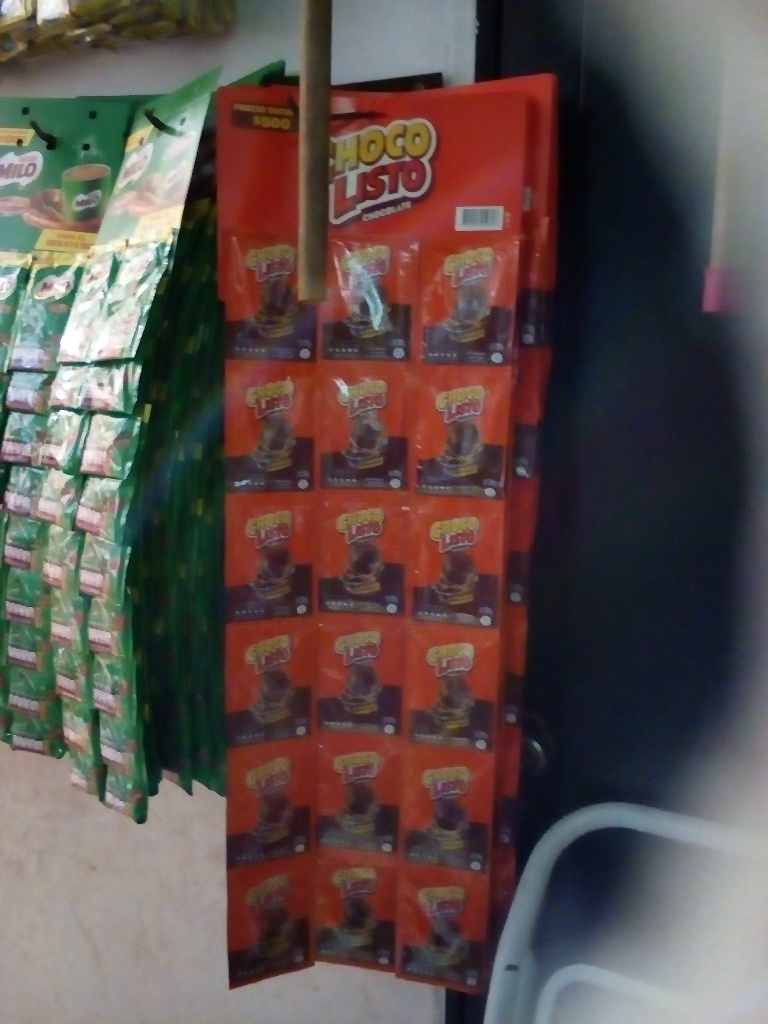COL0170103SOB02000: (221, 242, 324, 374)
